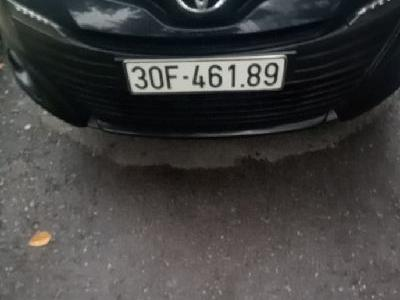lisence: (124, 56, 286, 96)
